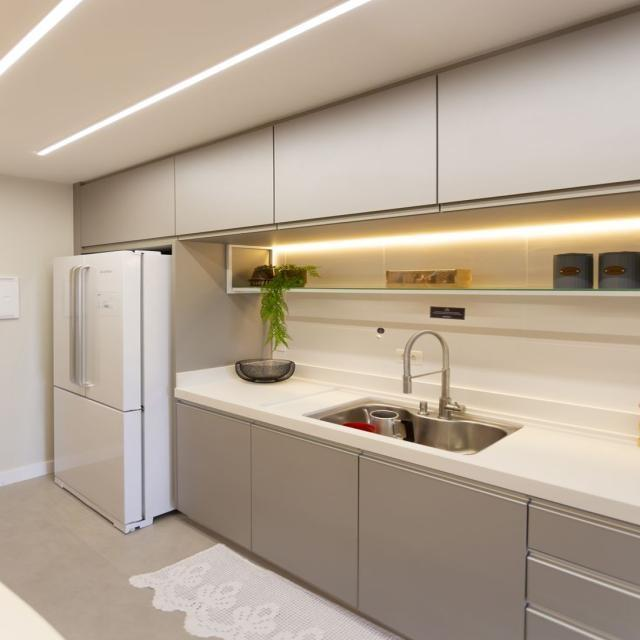obstacle: (50, 249, 176, 534), (529, 506, 640, 640)
